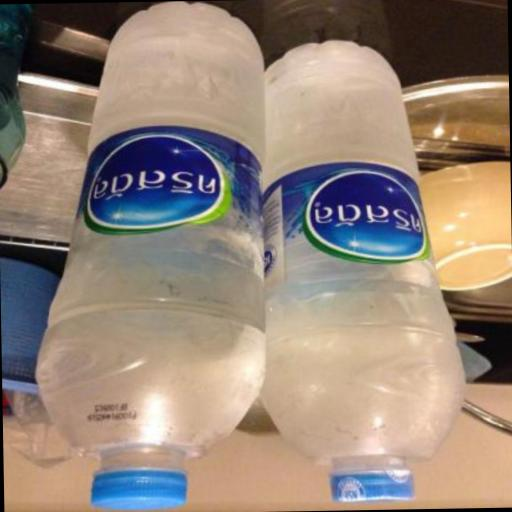Coca: (18, 1, 305, 512), (228, 23, 476, 512)
